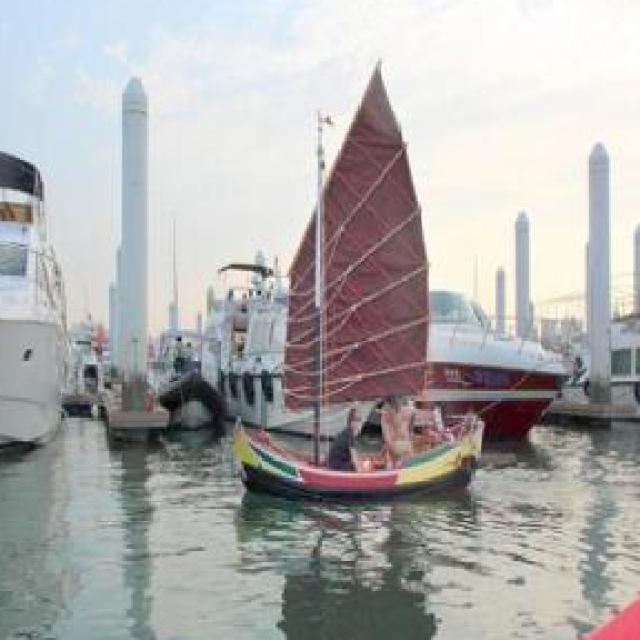sailboat: (224, 51, 484, 502)
